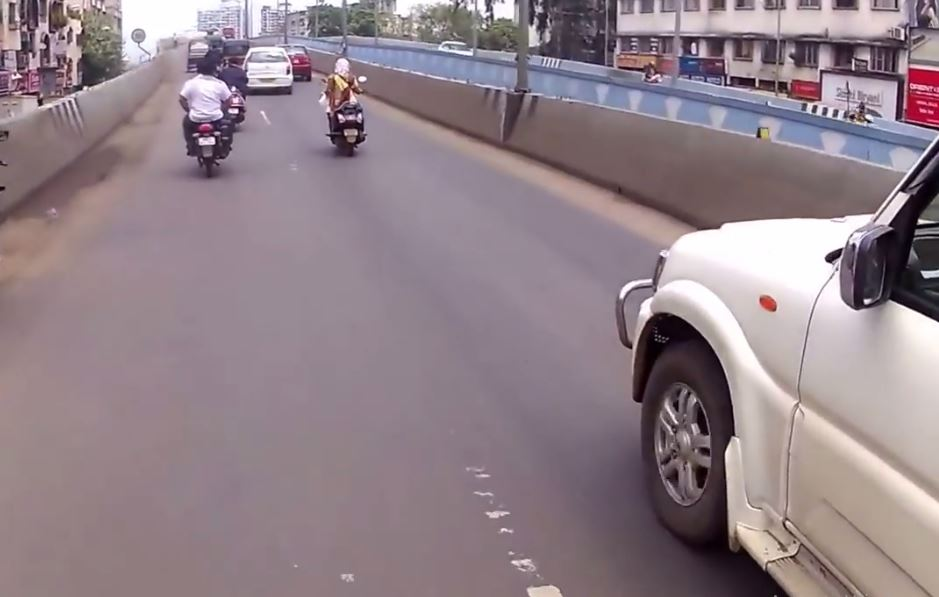autorickshaw: (183, 34, 204, 72)
car: (606, 77, 939, 596), (243, 39, 295, 111), (289, 36, 316, 83)
